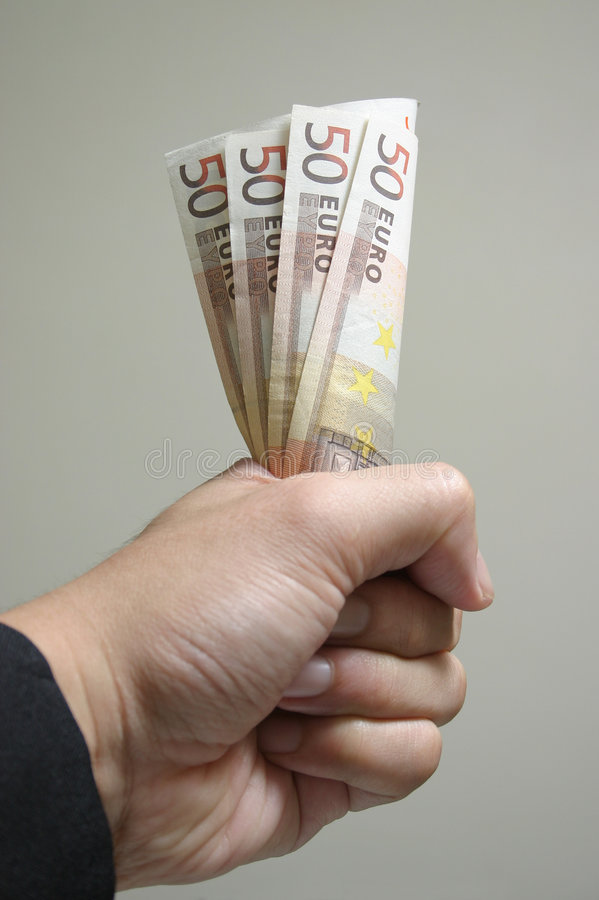billete: (158, 90, 425, 479)
